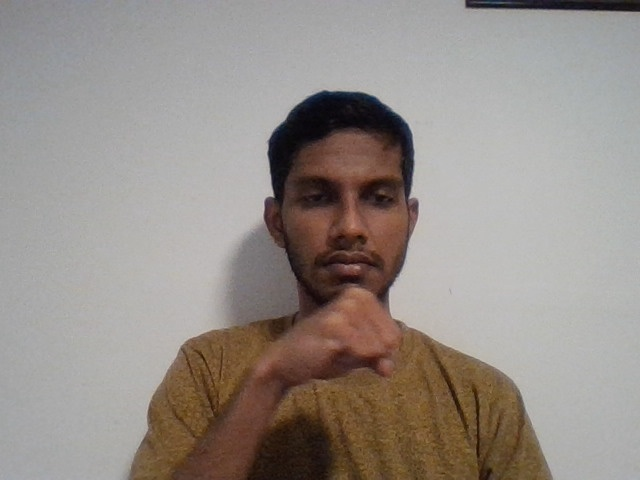yes: (245, 279, 413, 412)
